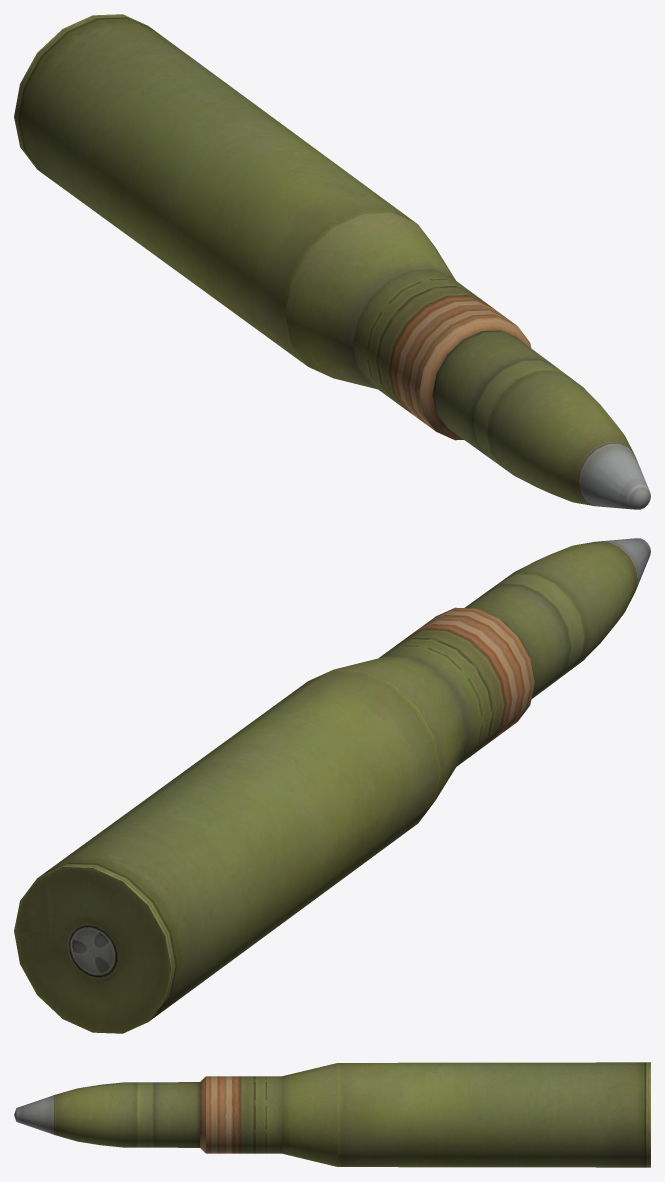
3 views of the same model, one above another, from view 1: azimuth 30°, elevation 25°; view 2: azimuth 150°, elevation 25°; view 3: azimuth 270°, elevation 25° (orthographic). The views are drawn at different scales.
Visible parts, largest first — view 1: AT_01_LOD0; view 2: AT_01_LOD0; view 3: AT_01_LOD0.
Part boxes in pixels (<box>): AT_01_LOD0: <box>14,14,650,509</box>; AT_01_LOD0: <box>14,538,650,1033</box>; AT_01_LOD0: <box>14,1062,650,1167</box>.
Bounding box in the file's own units: 1.65 × 1.65 × 10.01.
